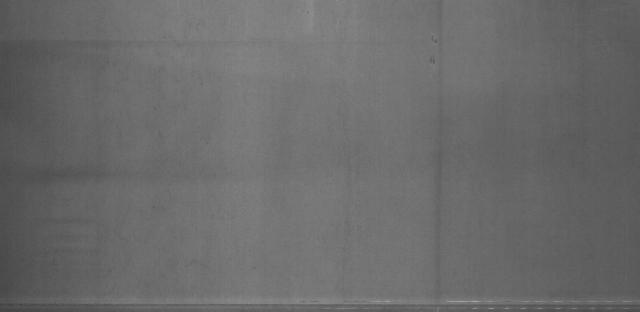welding_line: (5, 293, 640, 310)
